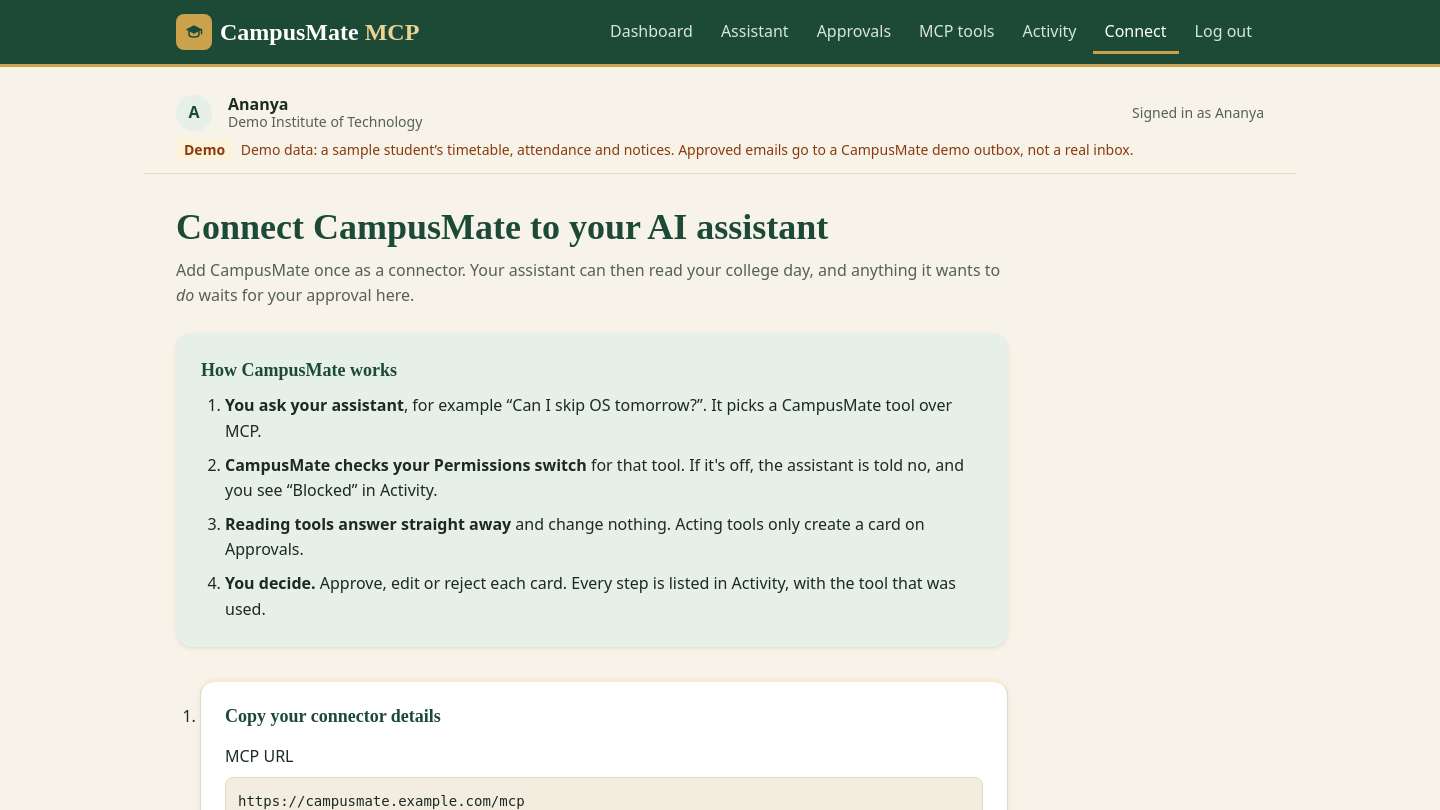
Test: logged in › logs out and returns to the login page
This screenshot has width=1440, height=810.
Click the button "Log out". click: {"x": 1223, "y": 32}
box: [1183,10,1264,54]
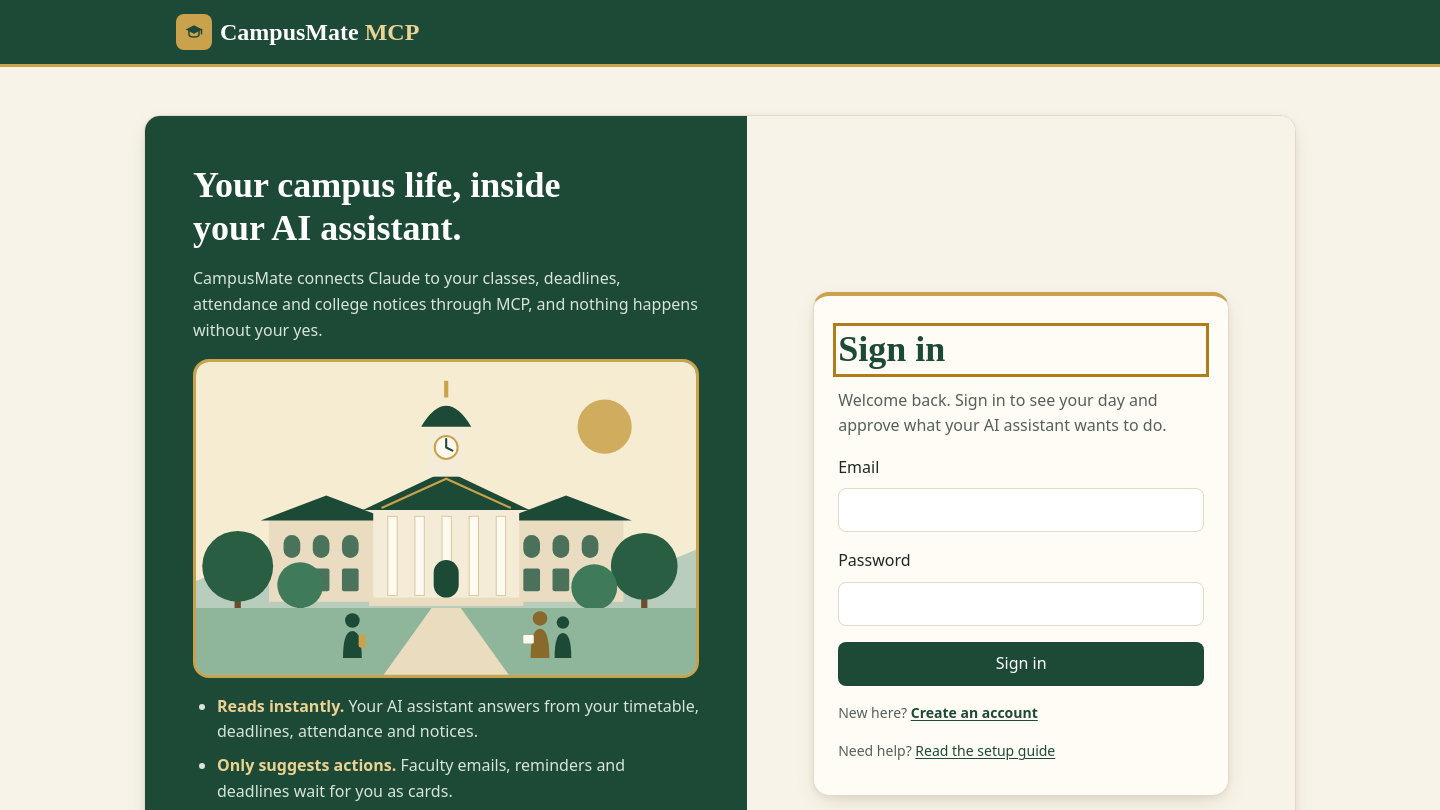
Expected: the heading "Sign in" is shown, [838,329,945,369]
